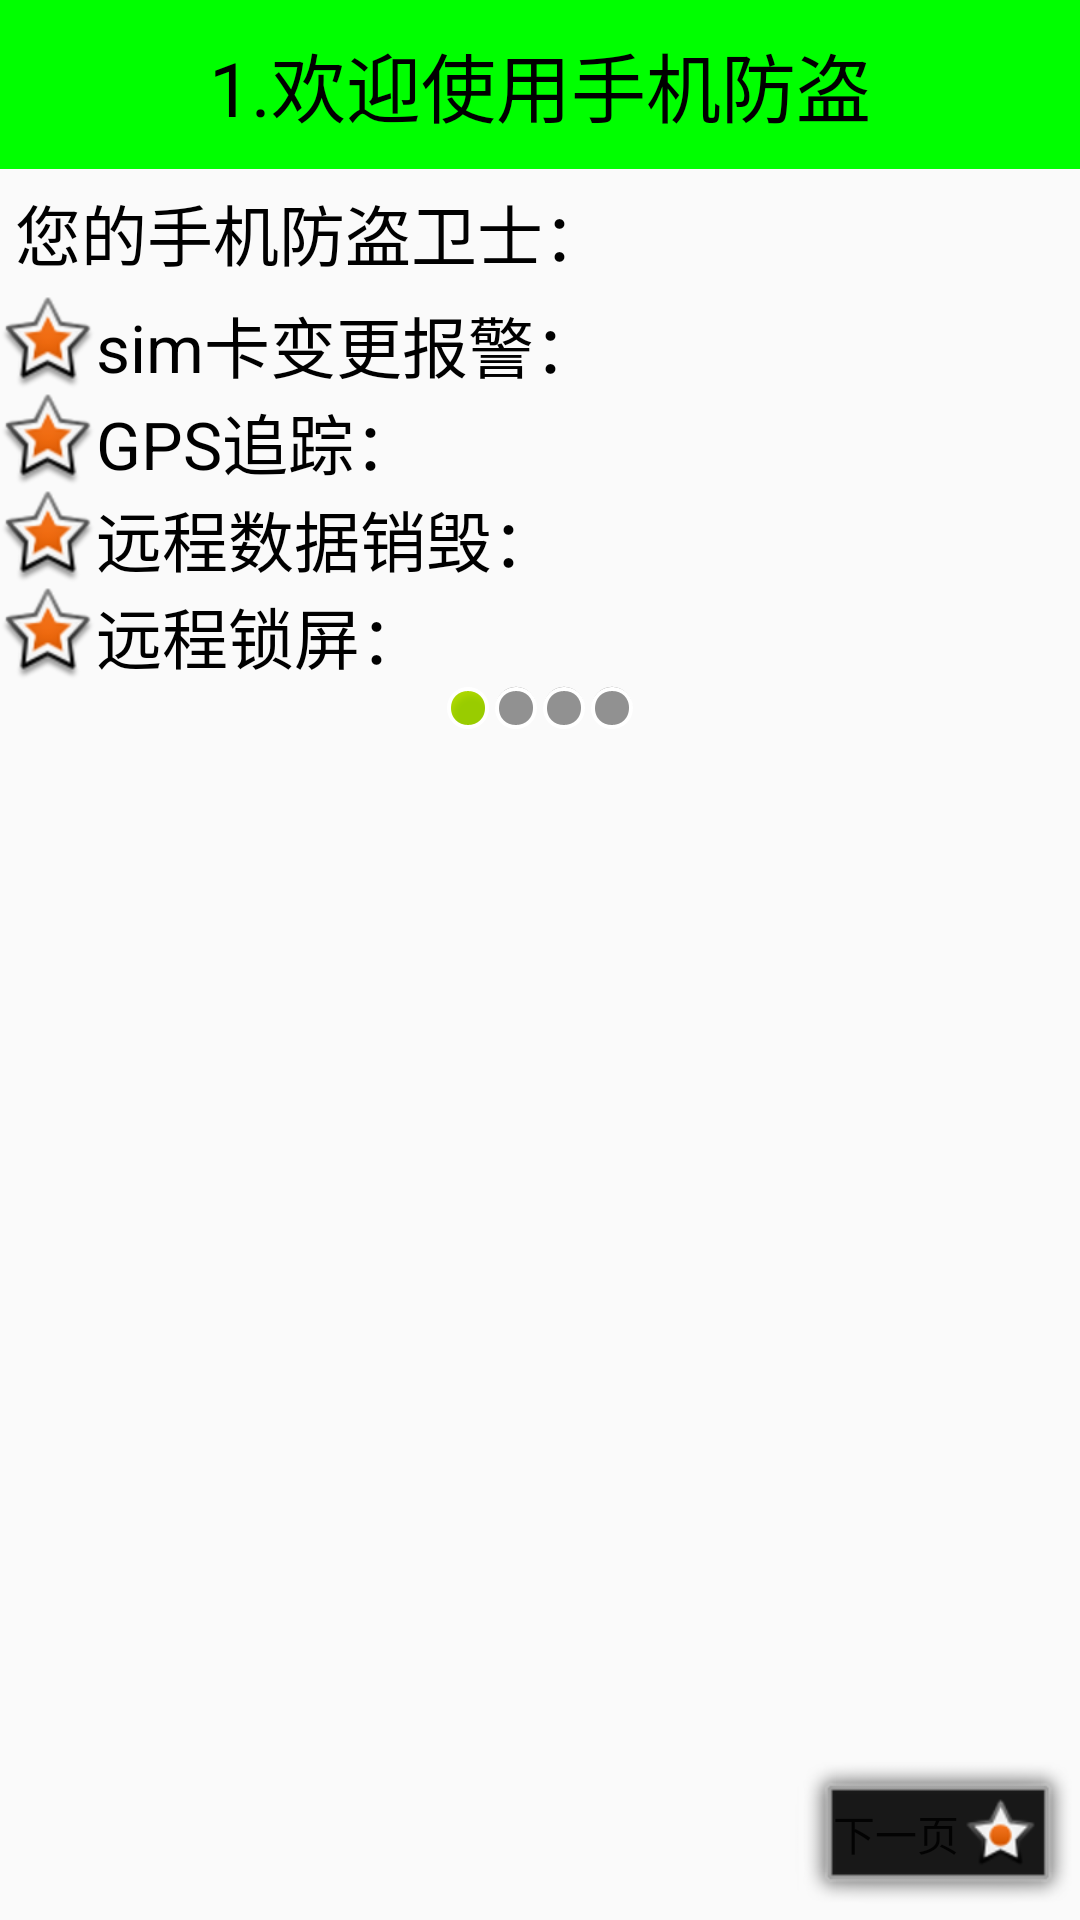

Where to tap for icons on this 1080×1920 app screen, as (x,y):
presence invisible: (516,706), (564,706), (612,706)
presence online: (468,708)
